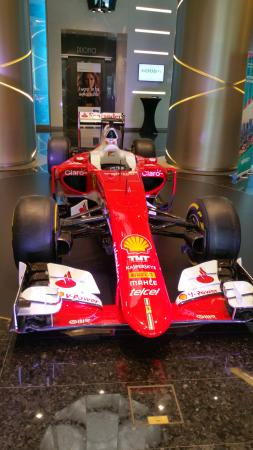f1: (13, 114, 253, 344)
